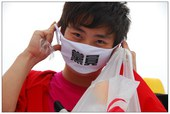face_mask: (61, 18, 117, 70)
